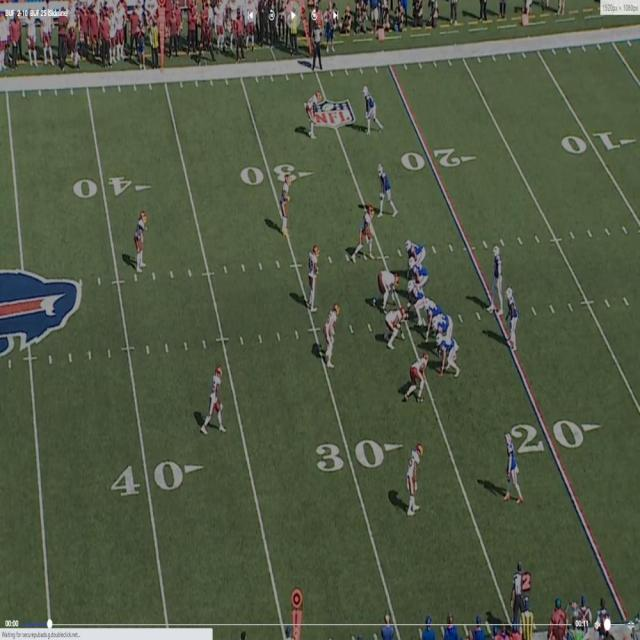center: (405, 283, 421, 321)
db: (406, 445, 422, 517), (206, 367, 223, 433), (279, 172, 293, 236), (134, 208, 146, 268), (304, 89, 320, 133)
lb: (323, 305, 338, 368), (306, 245, 319, 311)
qb: (505, 286, 518, 346)
skill: (504, 427, 516, 498), (377, 164, 394, 214), (365, 86, 381, 133), (406, 240, 430, 264), (493, 243, 504, 294)
